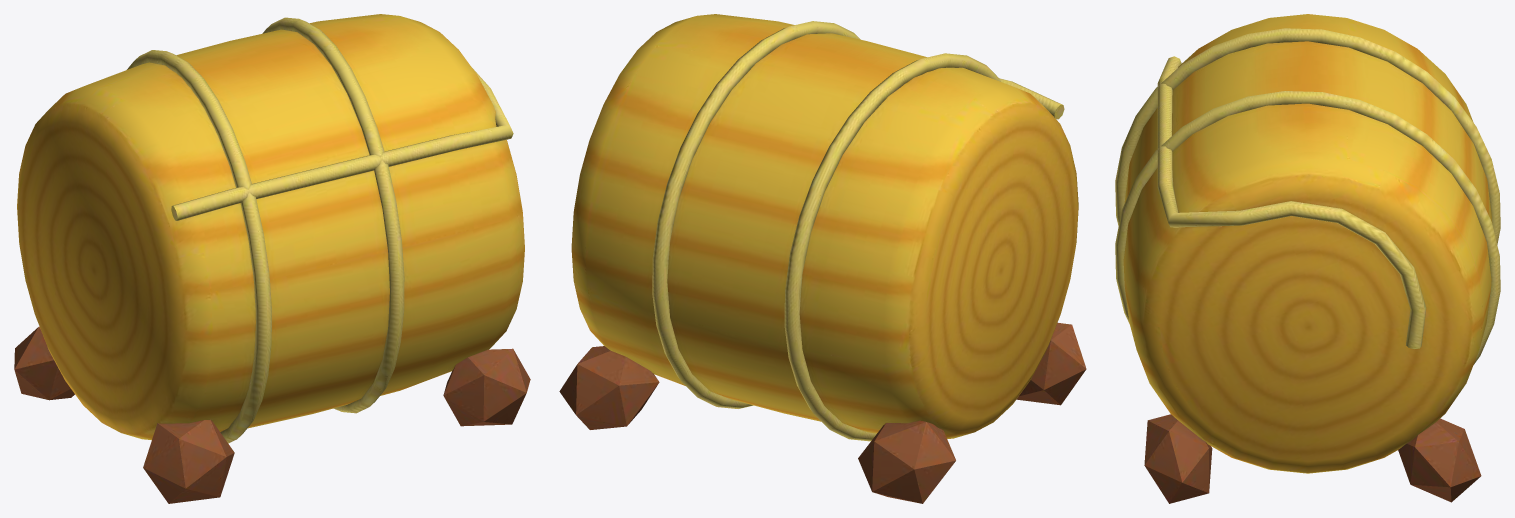
File: hay_bale_2_high.glb
3 views of the same model, side by side, from view 1: azimuth 30°, elevation 25°; view 2: azimuth 150°, elevation 25°; view 3: azimuth 270°, elevation 25° (orthographic). The views are drawn at different scales.
Parts seen in each view (by area): view 1: hay_bale_2; view 2: hay_bale_2; view 3: hay_bale_2.
Part boxes in pixels (left/top/right/bottom): hay_bale_2: left=14, top=14, right=530, bottom=503; hay_bale_2: left=559, top=14, right=1086, bottom=503; hay_bale_2: left=1115, top=14, right=1500, bottom=503.
Bounding box in the file's own units: 0.7059 × 0.6408 × 0.6247.
1 material, 1 textured.
